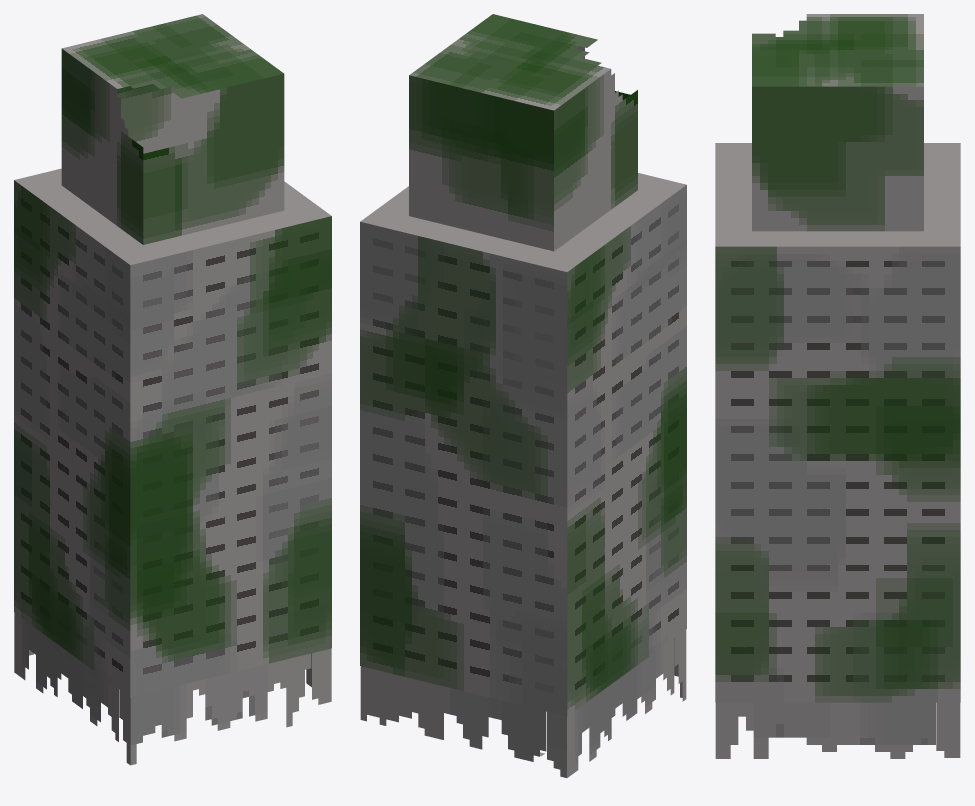
The model's file is Skybuilding 2.gltf.
3 renders of one model, left to right at view 1: azimuth 30°, elevation 25°; view 2: azimuth 150°, elevation 25°; view 3: azimuth 270°, elevation 25°, orthographic. The views are drawn at different scales.
Parts seen in each view (by area): view 1: Main, cube (×4); view 2: Main, cube (×4); view 3: Main, cube (×3).
Boxes of the visible parts, left/top/right/bottom form: Main: left=14, top=168, right=331, bottom=697; cube (×4): left=14, top=14, right=331, bottom=765; Main: left=360, top=173, right=686, bottom=716; cube (×4): left=360, top=14, right=686, bottom=777; Main: left=715, top=143, right=960, bottom=702; cube (×3): left=715, top=14, right=960, bottom=758.
Size of the model in its own units: 0.125 by 0.3936 by 0.125.
6 materials, 6 textured.
